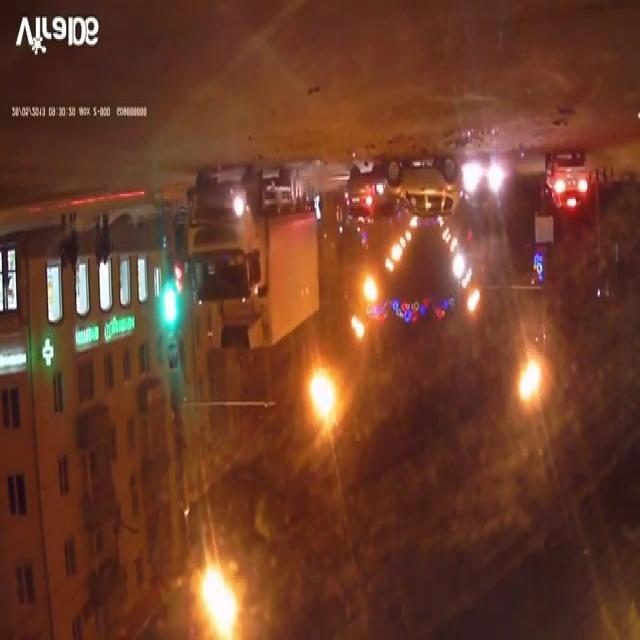moderate: (346, 148, 466, 233)
